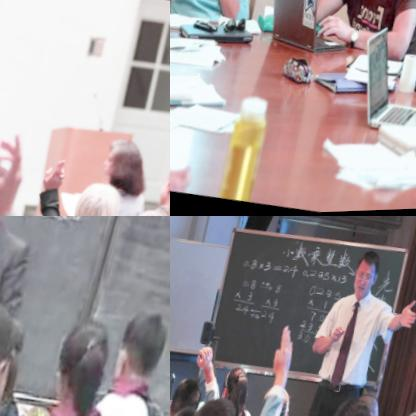head: (46, 311, 121, 411), (111, 303, 170, 397), (0, 295, 32, 416), (100, 140, 149, 190), (67, 175, 126, 216), (218, 367, 256, 414), (170, 374, 207, 416), (351, 255, 381, 301), (318, 396, 381, 416), (185, 396, 244, 416), (152, 159, 170, 216), (355, 391, 389, 416)
